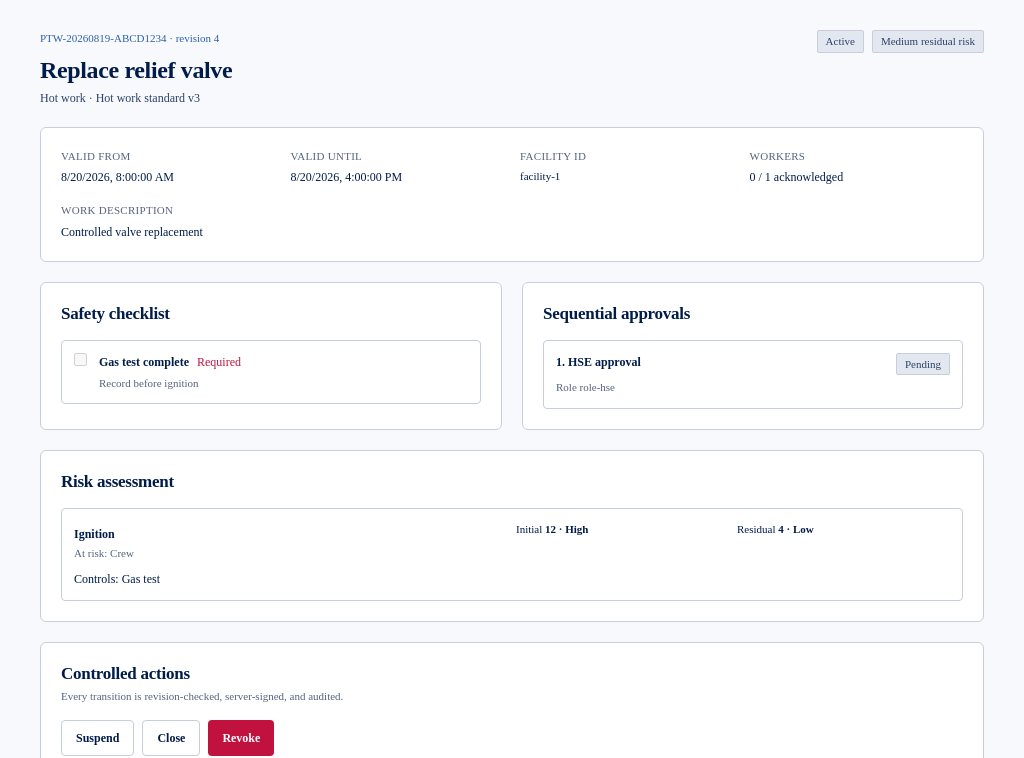
Scenario: permit detail lifecycle › sends reasoned exceptional actions and reloads authoritative state after failure
Click the button "Suspend".
click(98, 738)  # box [61,720,134,756]
(page scrolled)
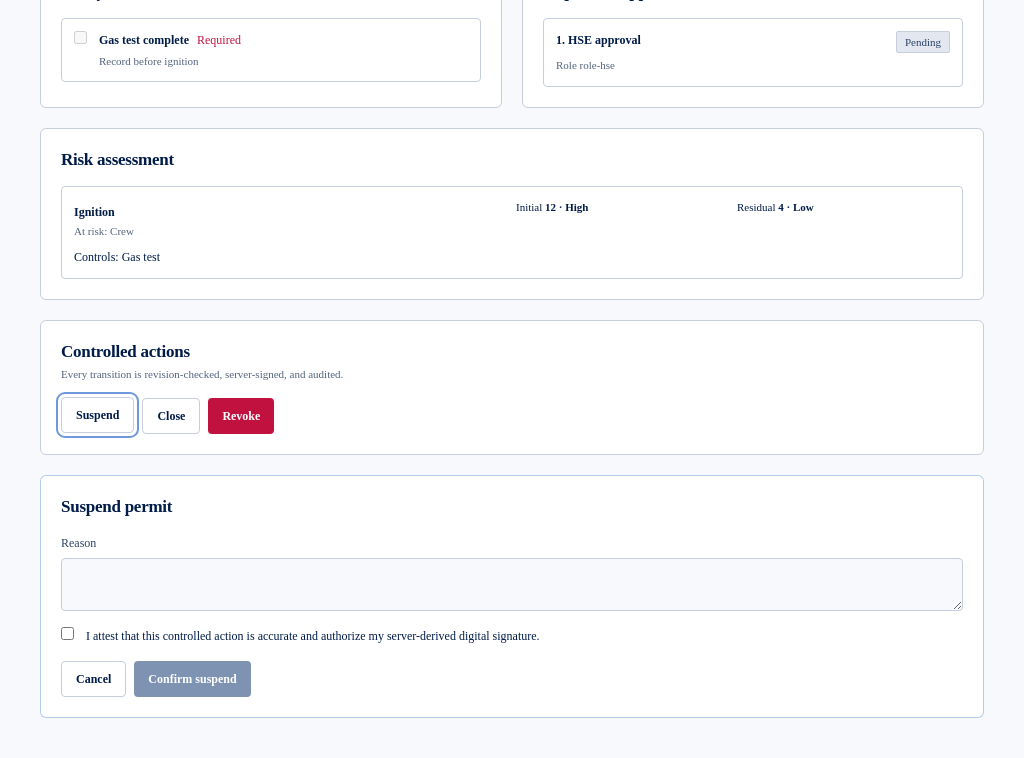
Type "Gas alarm" into the text box labelled "Reason".
click(512, 584); type("Gas alarm")  # box [61,558,963,610]
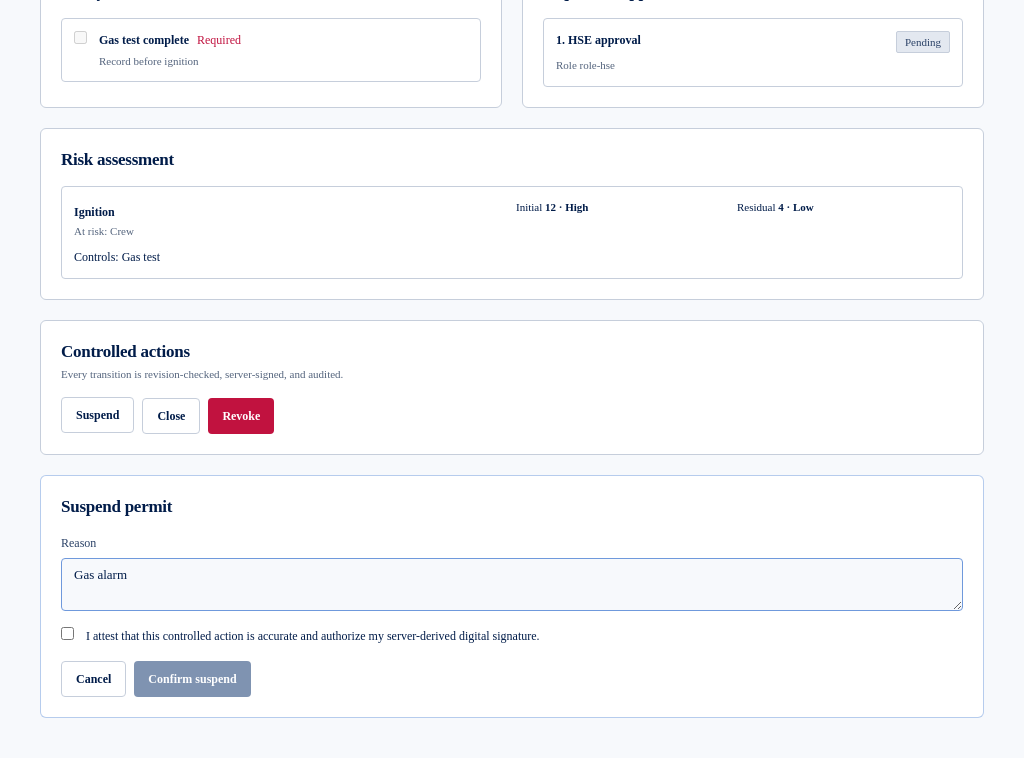
Click the checkbox labelled "I attest that this controlled action".
click(68, 633)  # box [61,626,74,640]
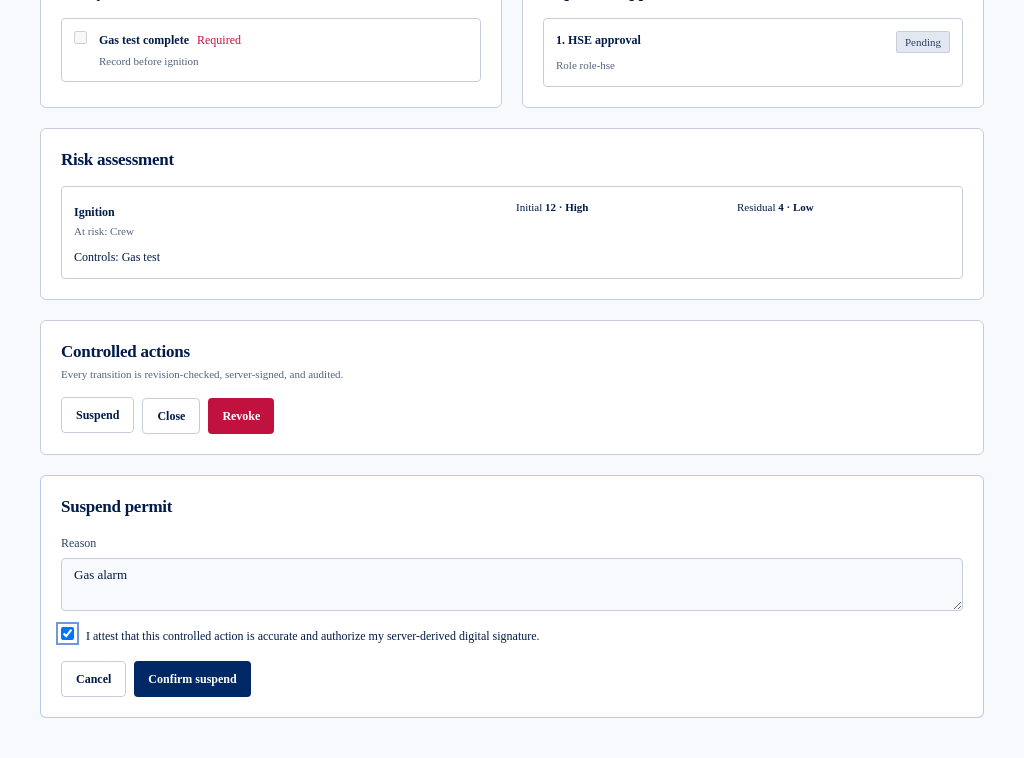
Click the button "Confirm suspend".
click(192, 678)  # box [134,660,251,696]
(page scrolled)
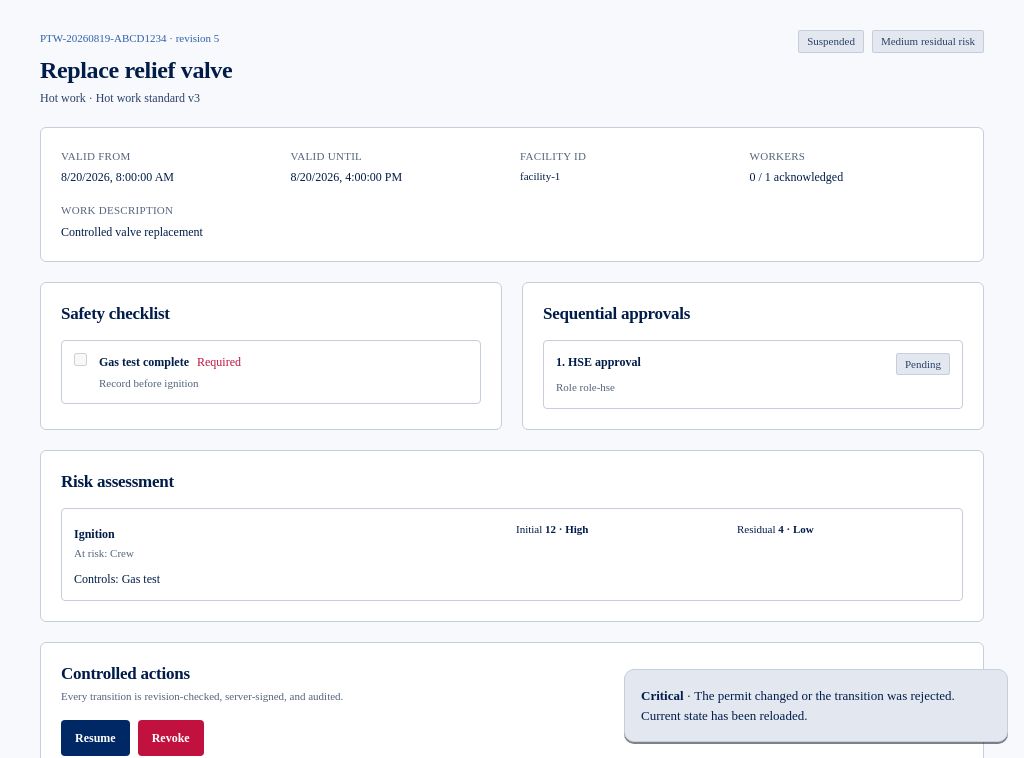
Now the text "Suspended" is shown, box [798,30,864,52]
